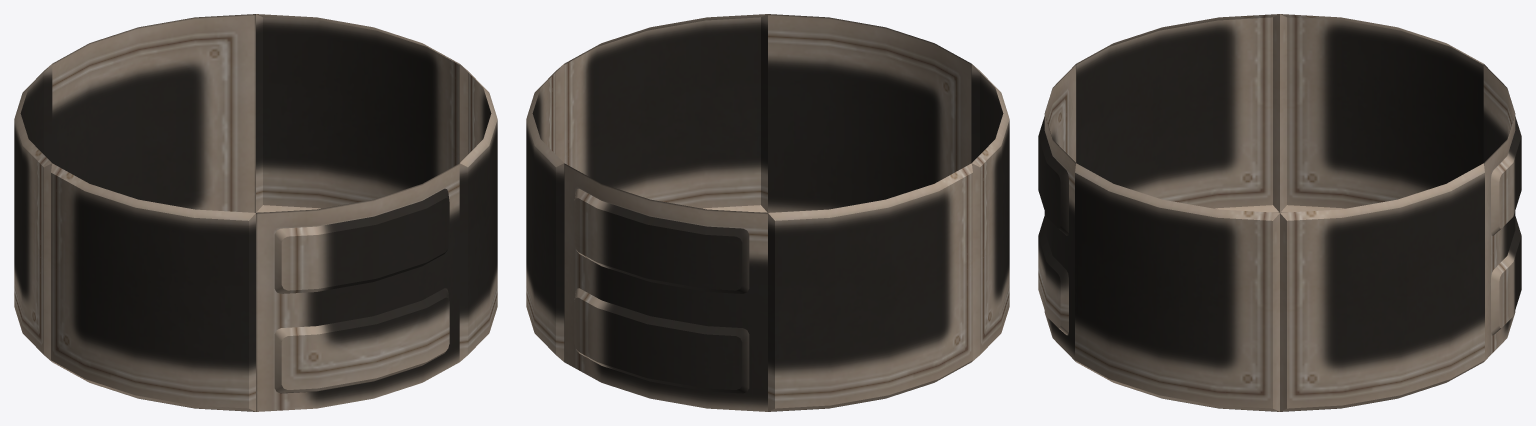
The model's file is cygnus_fuselage_s1p5_5.obj.
The picture shows the model from 3 angles, left to right: view 1: azimuth 30°, elevation 25°; view 2: azimuth 150°, elevation 25°; view 3: azimuth 270°, elevation 25°; orthographic projection.
Visible parts, largest first — view 1: radiator1, mesh1; view 2: radiator1, mesh1; view 3: radiator1, mesh1.
Boxes of the visible parts, <box> form: radiator1: <box>14,14,497,411</box>; mesh1: <box>52,14,459,411</box>; radiator1: <box>526,14,1009,411</box>; mesh1: <box>564,14,971,411</box>; radiator1: <box>1075,14,1484,411</box>; mesh1: <box>1038,64,1521,361</box>.
Bounding box in the file's own units: 1.92 × 0.875 × 1.93.
1 material, 1 textured.
